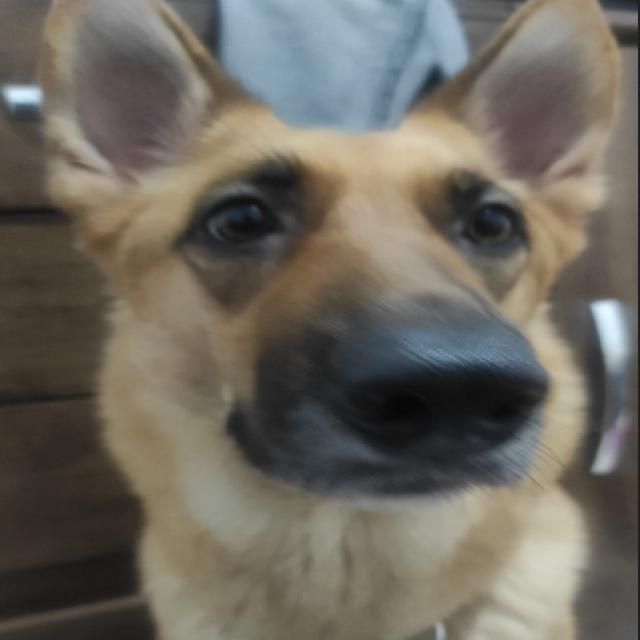cachorro: (17, 4, 622, 640)
